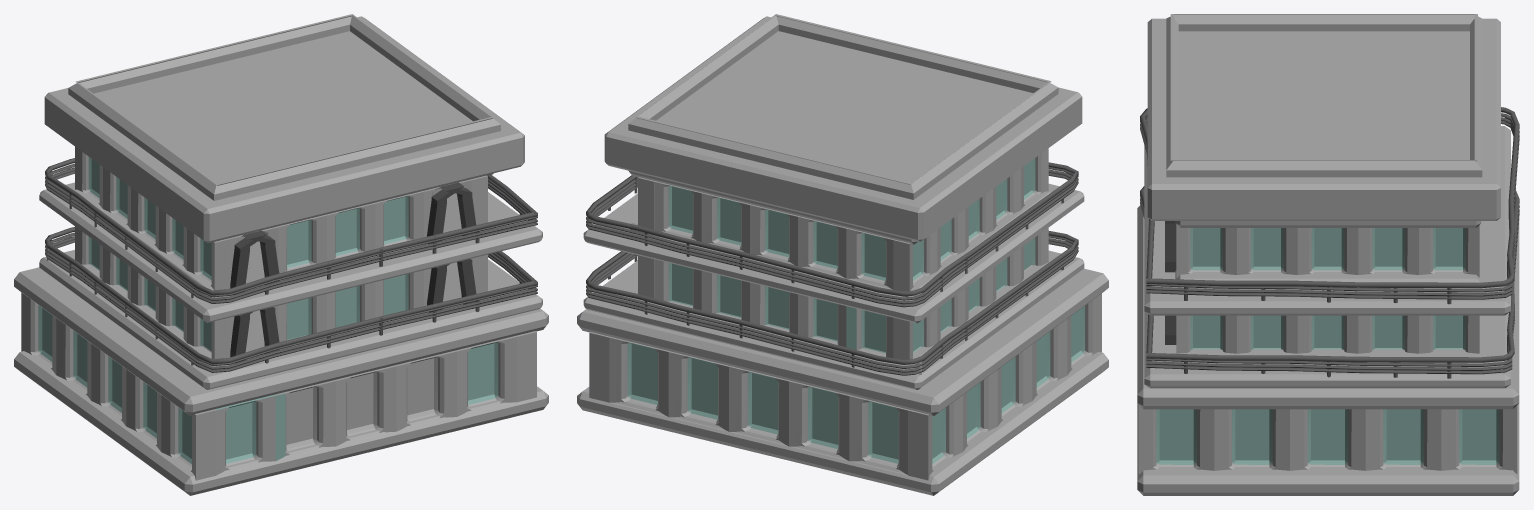
Rendered from Apartment building 4.fbx.
3 views of the same model, side by side, from view 1: azimuth 30°, elevation 25°; view 2: azimuth 150°, elevation 25°; view 3: azimuth 270°, elevation 25° (orthographic). The views are drawn at different scales.
Visible parts, largest first — view 1: polySurface4484; view 2: polySurface4484; view 3: polySurface4484.
Boxes of the visible parts, x1,y1,x2,y2 form: polySurface4484: [14, 14, 548, 495]; polySurface4484: [577, 14, 1108, 495]; polySurface4484: [1137, 14, 1519, 495].
Size of the model in its own units: 181 by 138 by 151.
